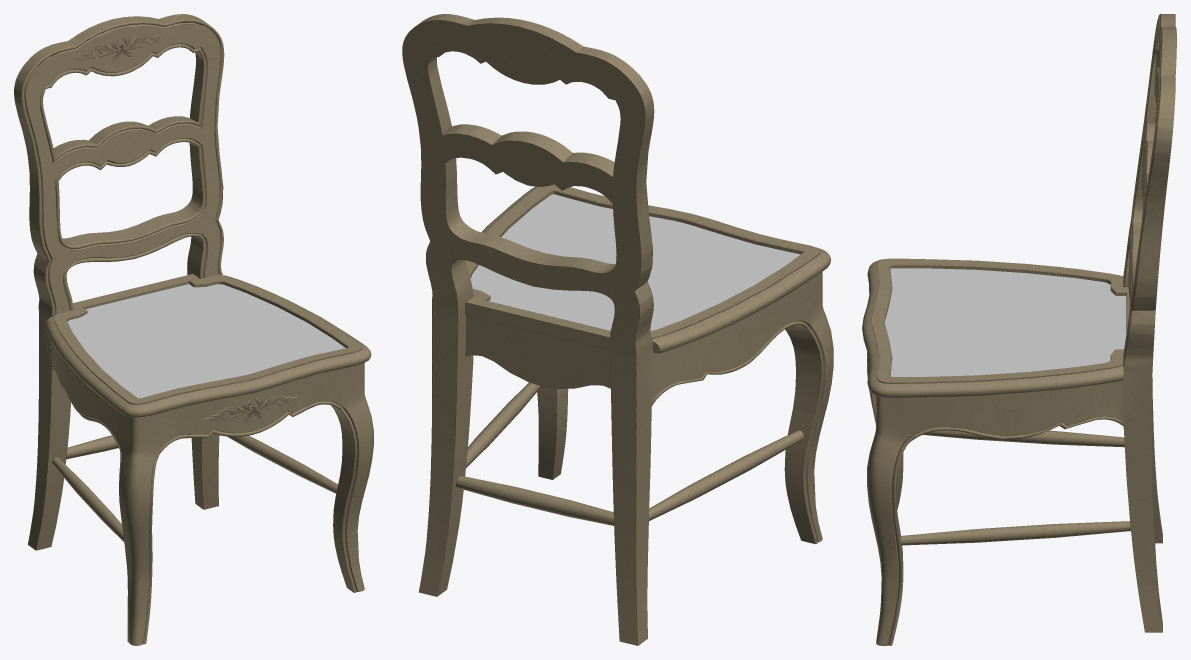
The model's file is example119.gltf.
The picture shows the model from 3 angles, left to right: view 1: azimuth 30°, elevation 25°; view 2: azimuth 150°, elevation 25°; view 3: azimuth 270°, elevation 25°; orthographic projection. The views are drawn at different scales.
Size of the model in its own units: 48.43 by 92.97 by 48.74.
